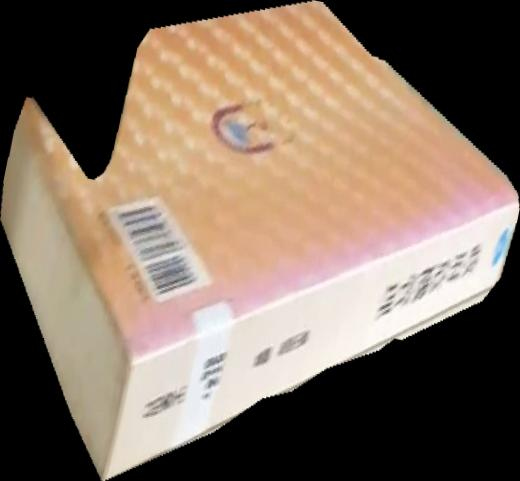flat: (1, 1, 520, 481)
